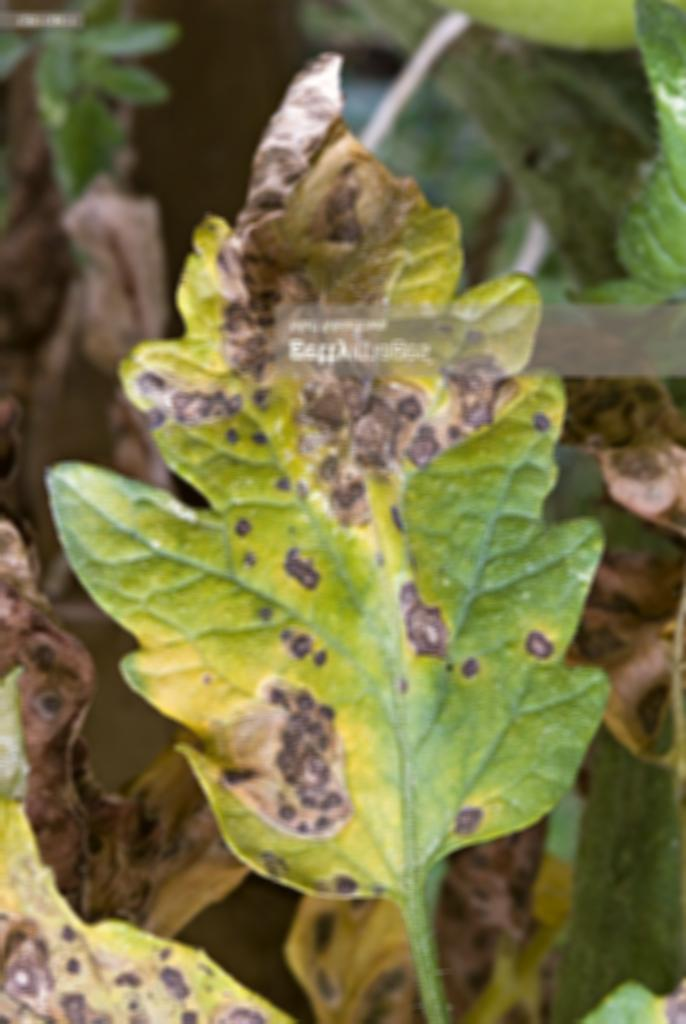Tomato Septoria leaf spot: (13, 71, 608, 918)
